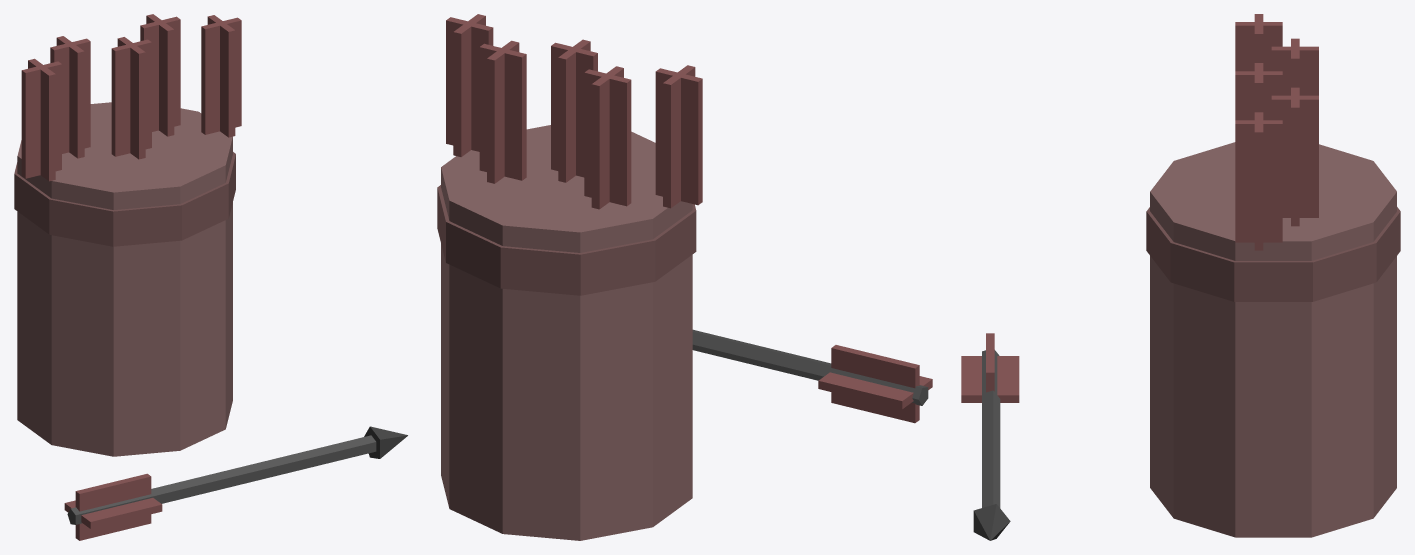
File: ce_ammo2_spiker_bio_c.obj
3 renders of one model, left to right at view 1: azimuth 30°, elevation 25°; view 2: azimuth 150°, elevation 25°; view 3: azimuth 270°, elevation 25°, orthographic. The views are drawn at different scales.
Visible parts, largest first — view 1: ce_ammo2_spiker_bio_c_0, ce_ammo2_spiker_bio_c_1, ce_ammo2_spiker_bio_c_12, ce_ammo2_spiker_bio_c_6, ce_ammo2_spiker_bio_c_2, ce_ammo2_spiker_bio_c_10, ce_ammo2_spiker_bio_c_15, ce_ammo2_spiker_bio_c_4, ce_ammo2_spiker_bio_c_5, ce_ammo2_spiker_bio_c_11, ce_ammo2_spiker_bio_c_7, ce_ammo2_spiker_bio_c_3 (+4 smaller); view 2: ce_ammo2_spiker_bio_c_0, ce_ammo2_spiker_bio_c_1, ce_ammo2_spiker_bio_c_8, ce_ammo2_spiker_bio_c_4, ce_ammo2_spiker_bio_c_2, ce_ammo2_spiker_bio_c_12, ce_ammo2_spiker_bio_c_15, ce_ammo2_spiker_bio_c_5, ce_ammo2_spiker_bio_c_10, ce_ammo2_spiker_bio_c_11, ce_ammo2_spiker_bio_c_6, ce_ammo2_spiker_bio_c_9 (+3 smaller); view 3: ce_ammo2_spiker_bio_c_0, ce_ammo2_spiker_bio_c_1, ce_ammo2_spiker_bio_c_11, ce_ammo2_spiker_bio_c_9, ce_ammo2_spiker_bio_c_12, ce_ammo2_spiker_bio_c_14, ce_ammo2_spiker_bio_c_5, ce_ammo2_spiker_bio_c_3, ce_ammo2_spiker_bio_c_7, ce_ammo2_spiker_bio_c_10, ce_ammo2_spiker_bio_c_8, ce_ammo2_spiker_bio_c_13 (+1 smaller).
Part boxes in pixels (x1,y1,x2,y2): ce_ammo2_spiker_bio_c_0: [17, 102, 232, 456]; ce_ammo2_spiker_bio_c_1: [14, 152, 235, 246]; ce_ammo2_spiker_bio_c_12: [67, 435, 376, 524]; ce_ammo2_spiker_bio_c_6: [111, 39, 151, 156]; ce_ammo2_spiker_bio_c_2: [21, 61, 61, 178]; ce_ammo2_spiker_bio_c_10: [201, 17, 241, 134]; ce_ammo2_spiker_bio_c_15: [75, 473, 151, 540]; ce_ammo2_spiker_bio_c_4: [50, 38, 90, 153]; ce_ammo2_spiker_bio_c_5: [56, 36, 84, 158]; ce_ammo2_spiker_bio_c_11: [207, 15, 235, 137]; ce_ammo2_spiker_bio_c_7: [117, 37, 145, 159]; ce_ammo2_spiker_bio_c_3: [28, 58, 55, 181]; ce_ammo2_spiker_bio_c_0: [441, 125, 692, 540]; ce_ammo2_spiker_bio_c_1: [437, 185, 696, 295]; ce_ammo2_spiker_bio_c_8: [479, 43, 526, 180]; ce_ammo2_spiker_bio_c_4: [584, 69, 631, 206]; ce_ammo2_spiker_bio_c_2: [655, 68, 702, 205]; ce_ammo2_spiker_bio_c_12: [692, 329, 928, 405]; ce_ammo2_spiker_bio_c_15: [831, 345, 919, 423]; ce_ammo2_spiker_bio_c_5: [591, 66, 623, 209]; ce_ammo2_spiker_bio_c_10: [446, 17, 493, 151]; ce_ammo2_spiker_bio_c_11: [453, 14, 485, 156]; ce_ammo2_spiker_bio_c_6: [551, 42, 597, 177]; ce_ammo2_spiker_bio_c_9: [487, 40, 519, 183]; ce_ammo2_spiker_bio_c_0: [1150, 142, 1396, 537]; ce_ammo2_spiker_bio_c_1: [1146, 207, 1400, 301]; ce_ammo2_spiker_bio_c_11: [1235, 120, 1282, 242]; ce_ammo2_spiker_bio_c_9: [1271, 95, 1318, 217]; ce_ammo2_spiker_bio_c_12: [982, 350, 1000, 507]; ce_ammo2_spiker_bio_c_14: [961, 356, 1019, 402]; ce_ammo2_spiker_bio_c_5: [1271, 46, 1318, 95]; ce_ammo2_spiker_bio_c_3: [1235, 22, 1282, 71]; ce_ammo2_spiker_bio_c_7: [1235, 71, 1282, 120]; ce_ammo2_spiker_bio_c_10: [1254, 112, 1263, 250]; ce_ammo2_spiker_bio_c_8: [1291, 87, 1299, 226]; ce_ammo2_spiker_bio_c_13: [973, 504, 1010, 540].
Size of the model in its own units: 0.6 by 0.63 by 0.605.
